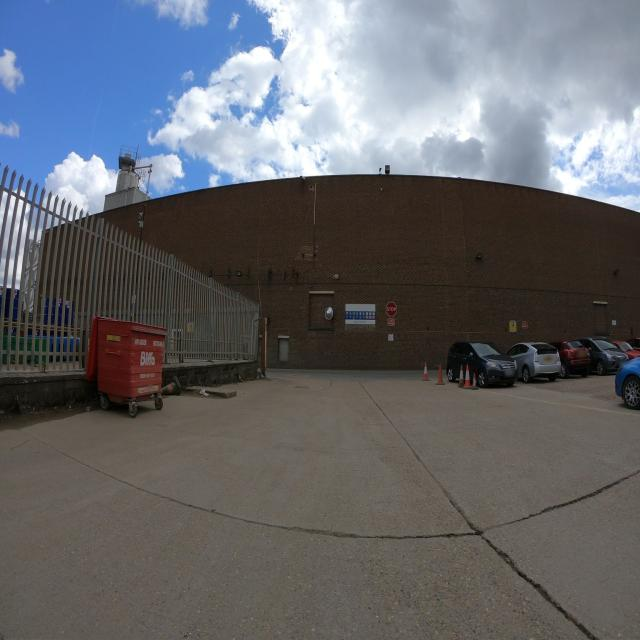car: (446, 340, 517, 388), (504, 342, 562, 382), (574, 336, 626, 376), (614, 335, 640, 414), (548, 339, 592, 378), (609, 338, 640, 361)
